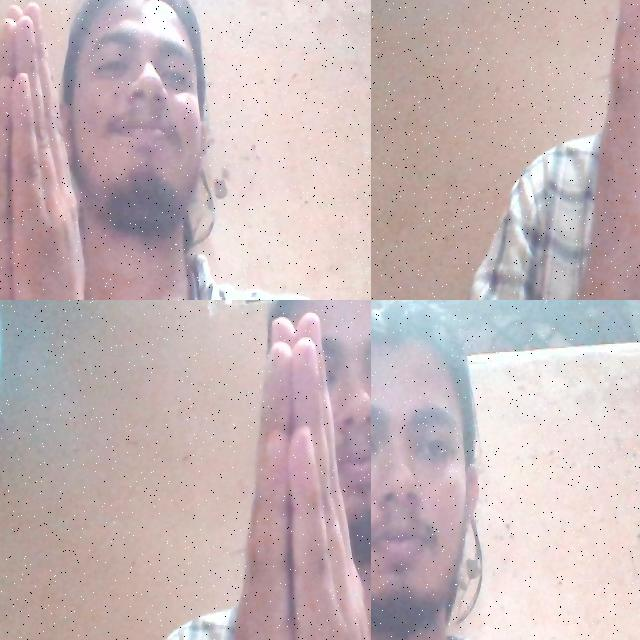Thank You: (149, 303, 371, 640), (513, 0, 640, 293), (0, 0, 118, 300)
